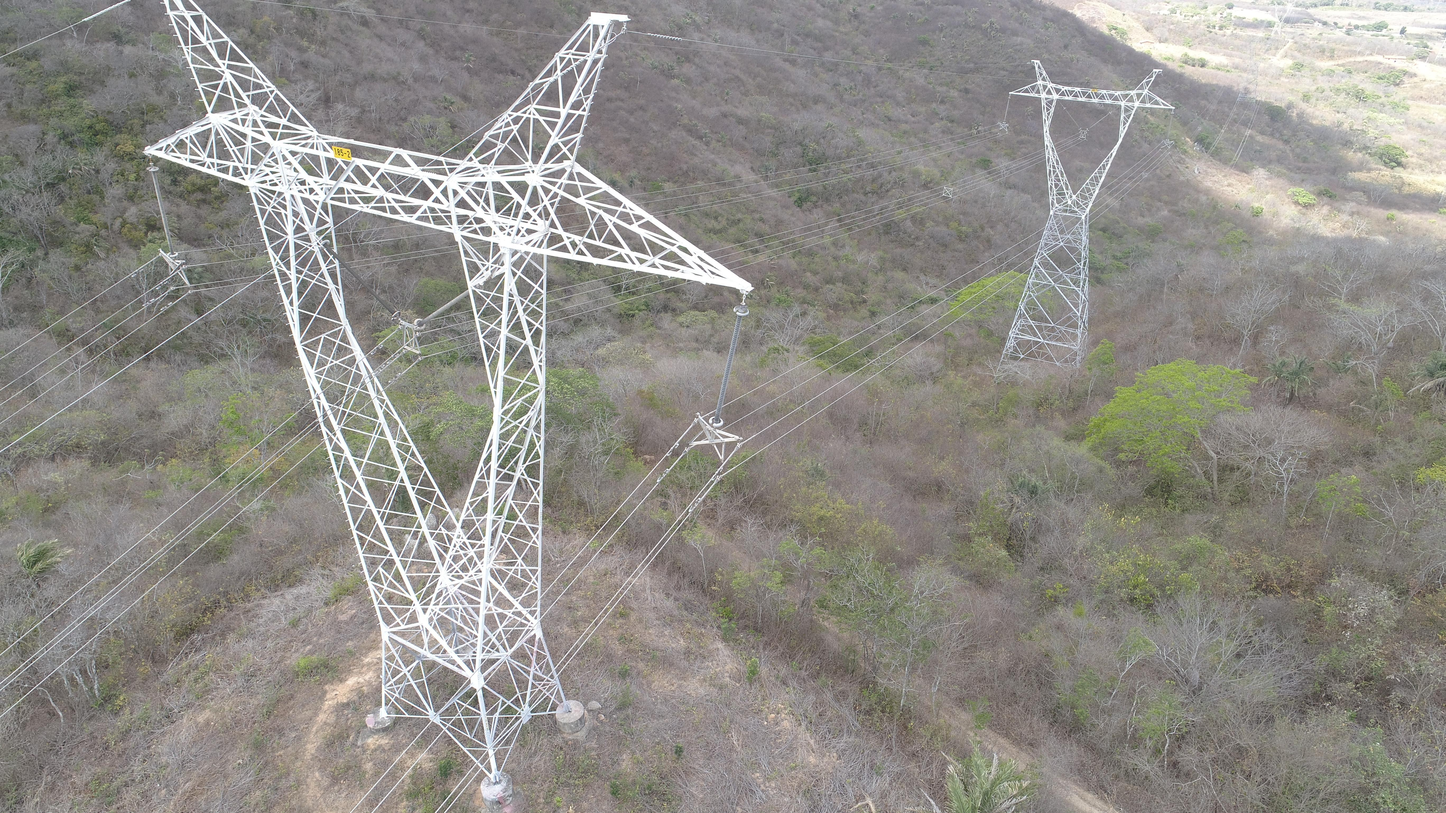power_tower: (141, 0, 756, 810), (994, 57, 1177, 377), (1268, 5, 1298, 41)
